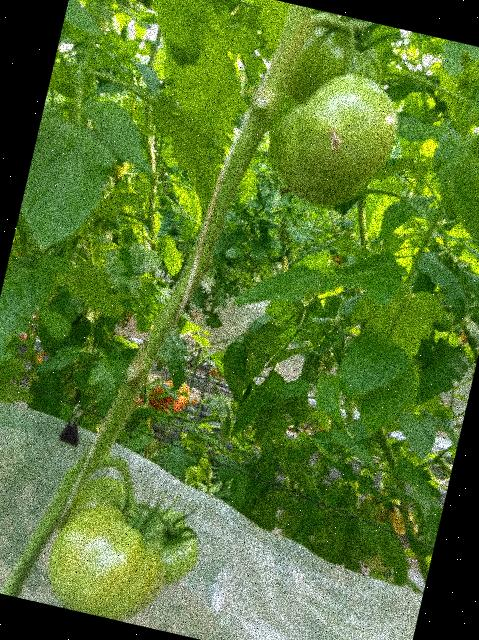b_green: (38, 493, 178, 628), (281, 63, 405, 199), (261, 99, 381, 215), (280, 8, 393, 121), (123, 503, 206, 592), (58, 468, 142, 548)
b_half_ripened: (149, 374, 193, 417)
